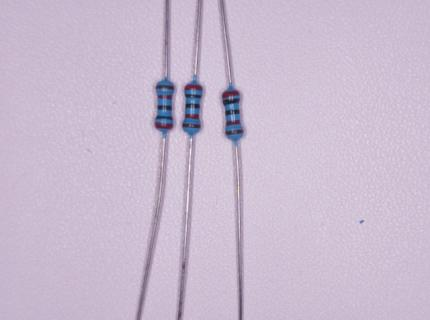Black band: (223, 98, 240, 105), (156, 115, 173, 120), (185, 103, 199, 108), (226, 110, 240, 115), (185, 93, 202, 97), (157, 106, 172, 110)
Brown band: (225, 129, 244, 136), (155, 85, 174, 90), (182, 123, 200, 128)
Red band: (222, 90, 240, 99), (155, 122, 173, 129), (184, 84, 203, 90), (226, 119, 241, 126), (185, 114, 199, 119), (157, 95, 171, 99)
